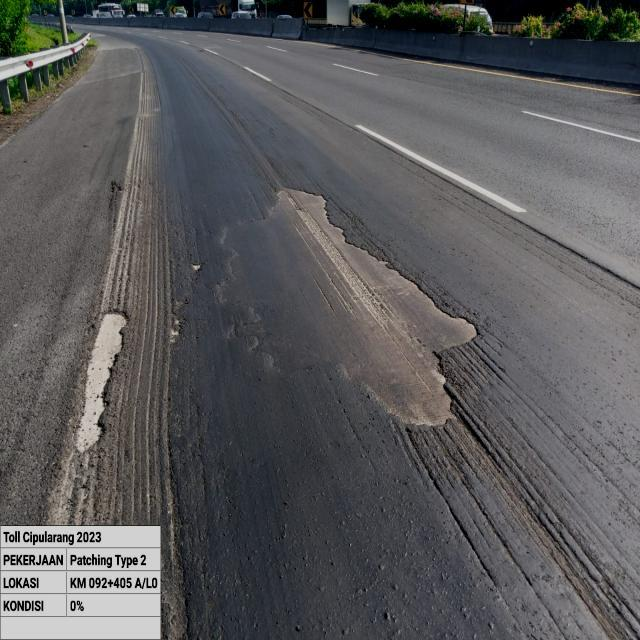Buraco: (207, 183, 485, 432), (70, 306, 134, 457), (106, 179, 125, 196)
